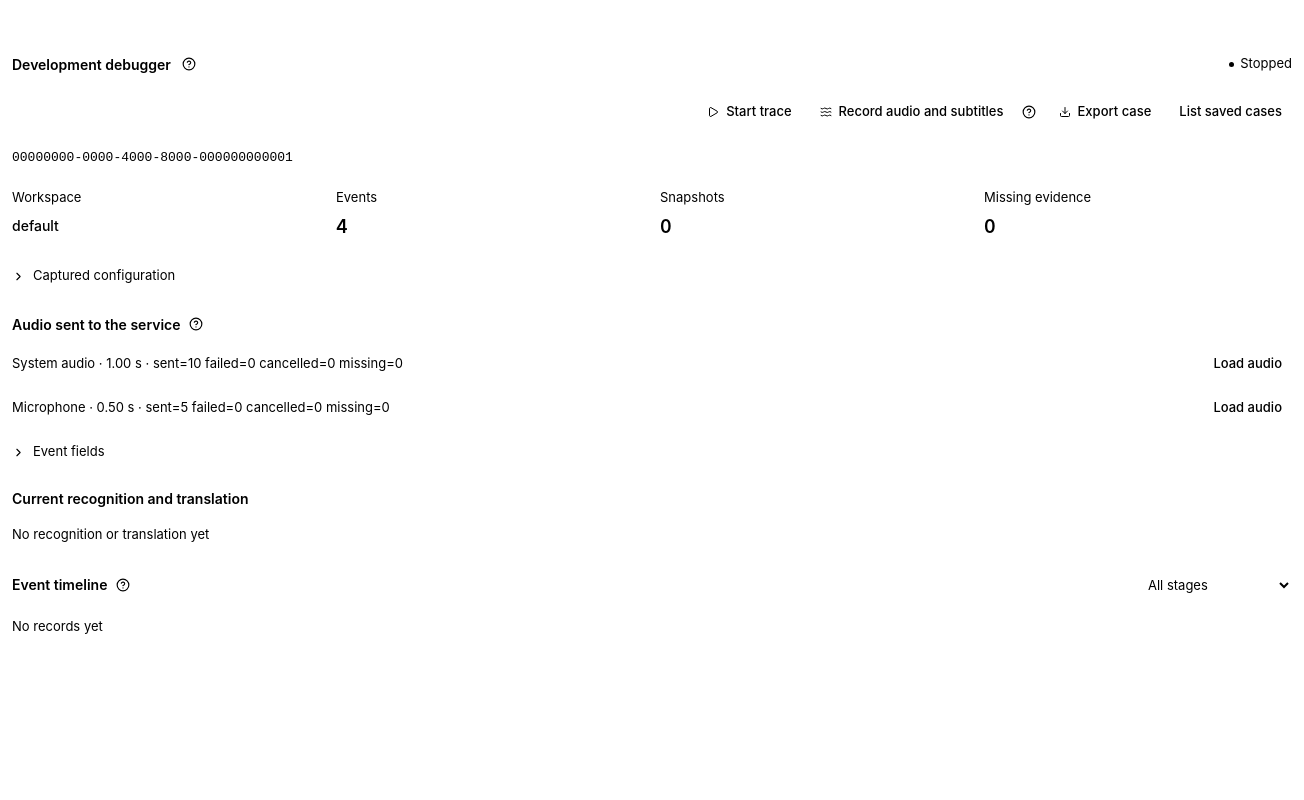
Test: cleans current audio and discards pending audio when polling observes a different case
Click the button "Load audio" in the row of "10".
click(1248, 364)  # box 1203,348 -> 1292,380
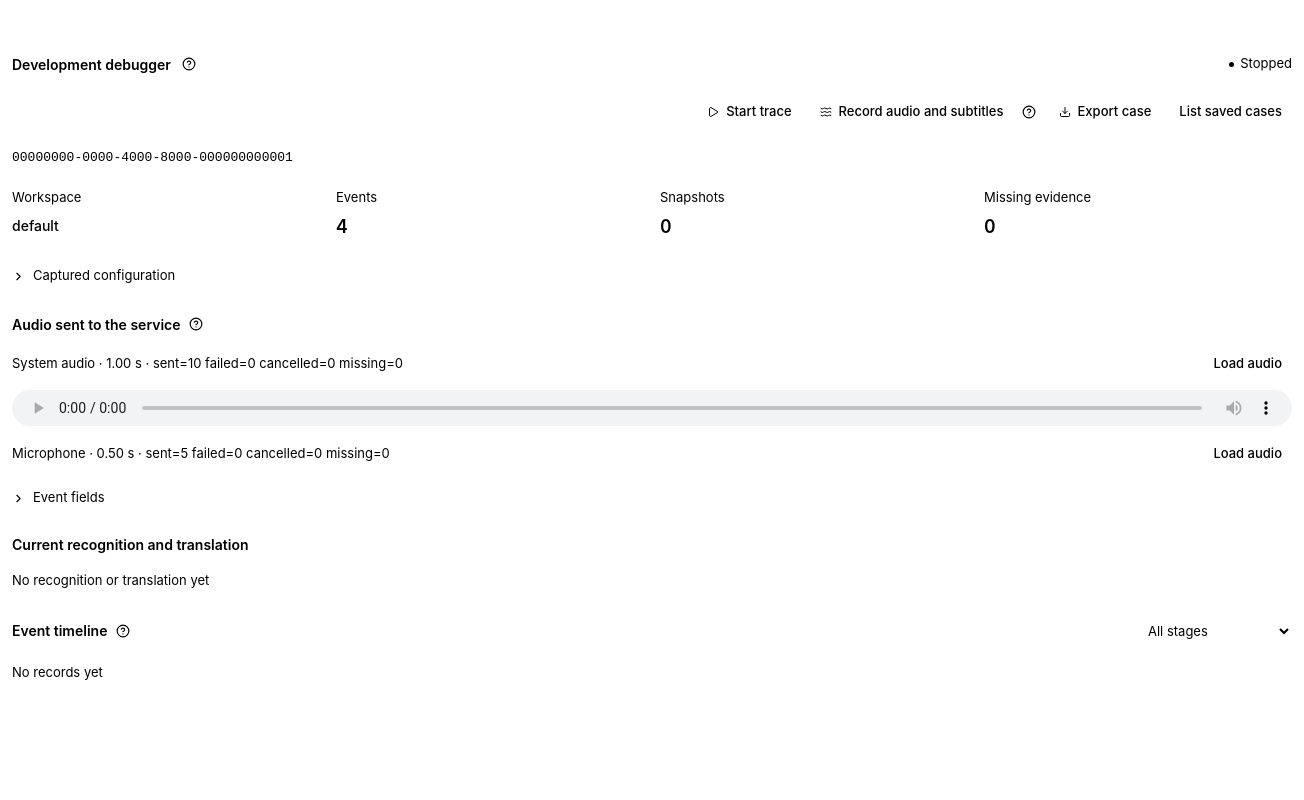
Click the button "Load audio" in the row of "0.50".
click(1248, 454)  # box 1203,438 -> 1292,470
Wait 500 ms
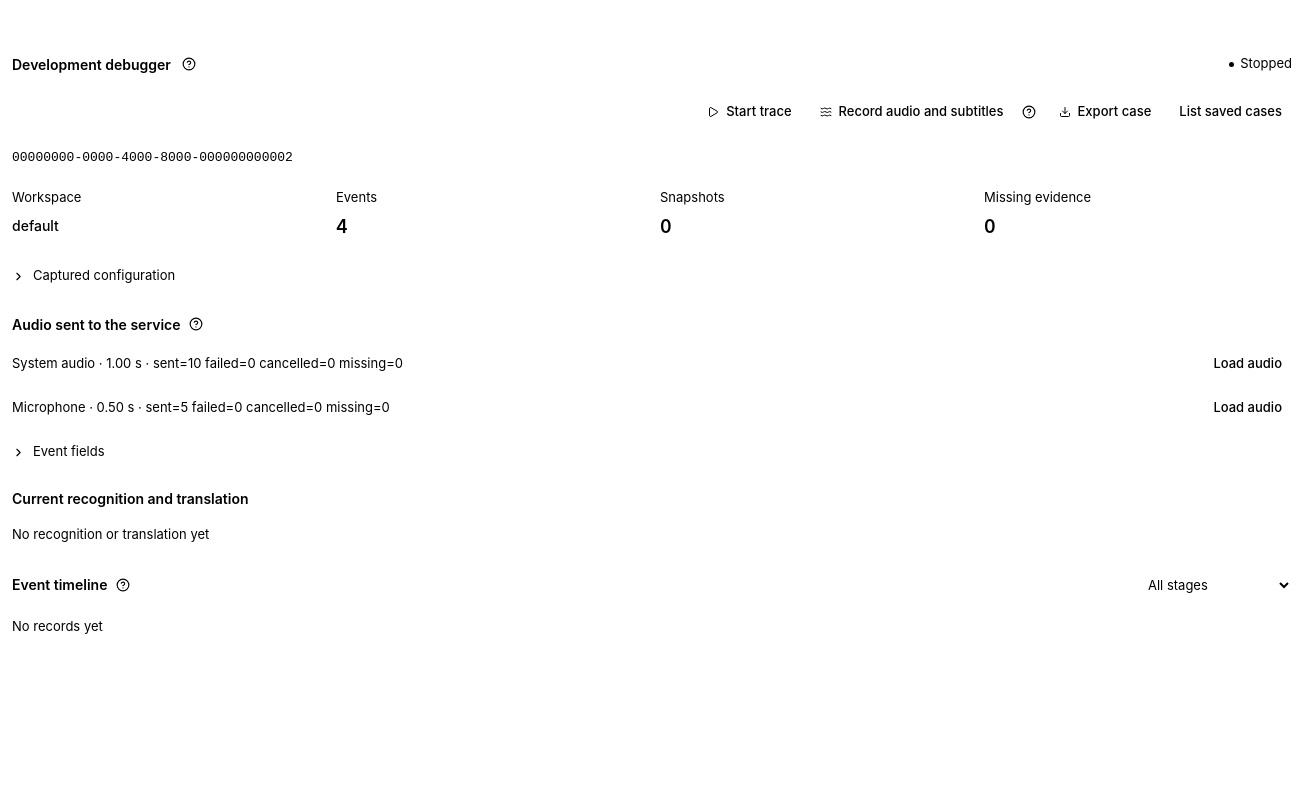
Result: the text "00000000-0000-4000-8000-000000000002" is shown at 12,150 -> 293,165
